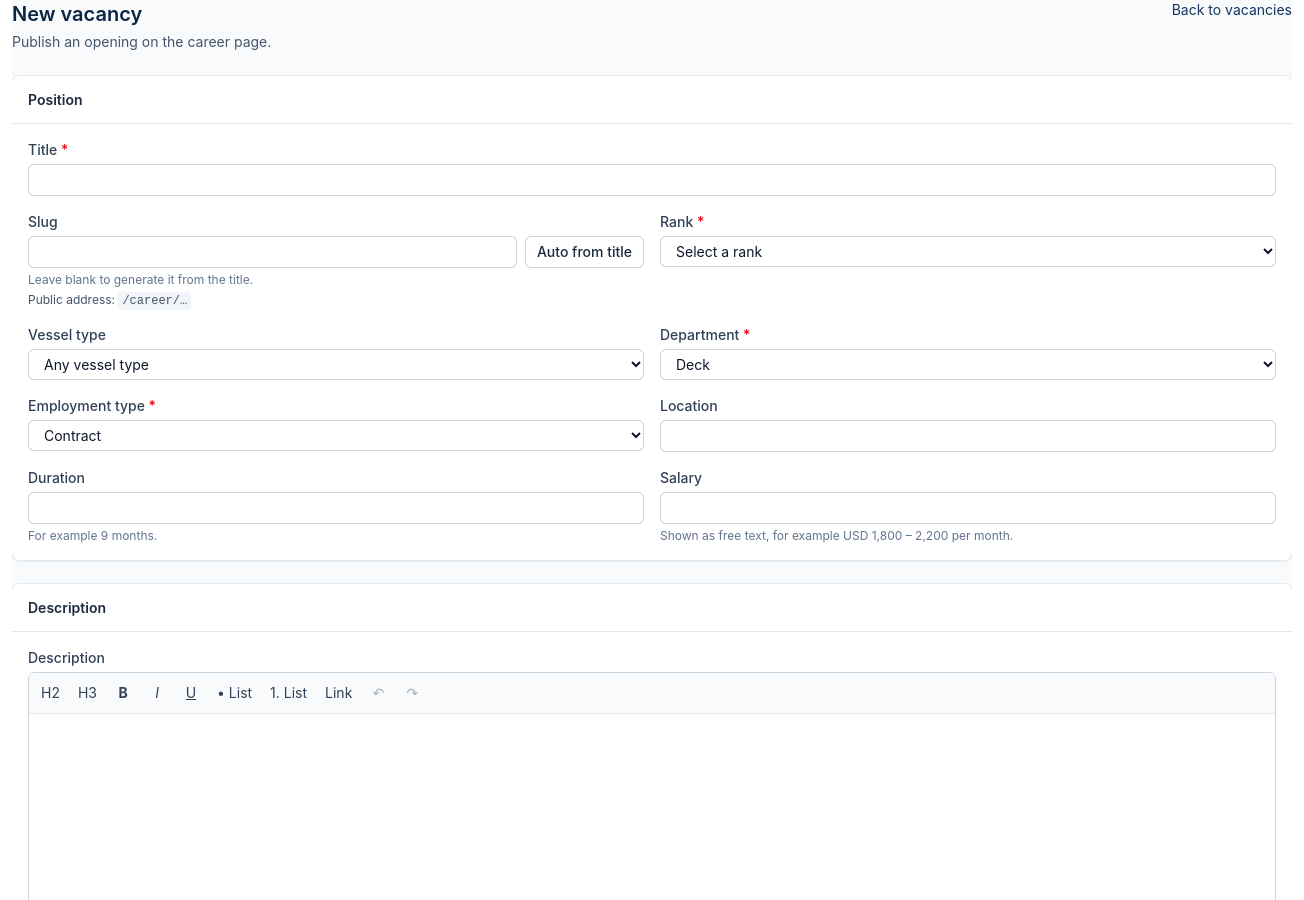
Test: VacancyFormPage › shows a general error when the server rejects a field the form does not know
The width and height of the screenshot is (1304, 900).
Type "Master" into the field labelled "Title *" at (652, 180), box top-left (28, 164), bottom-right (1276, 196)
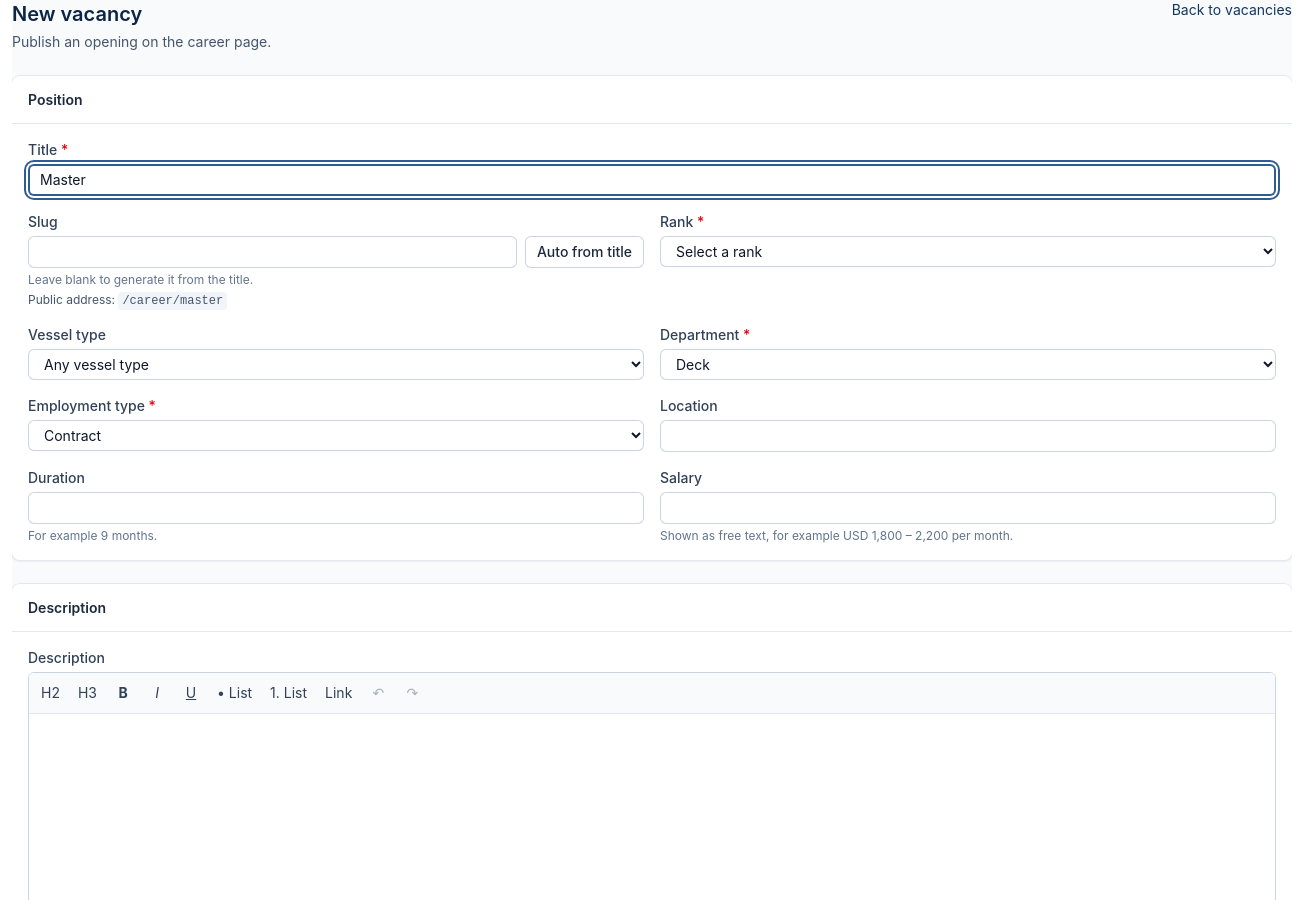
Select "Master" in the dropdown labelled "Rank *" at (968, 252), box top-left (660, 236), bottom-right (1276, 267)
(page scrolled)
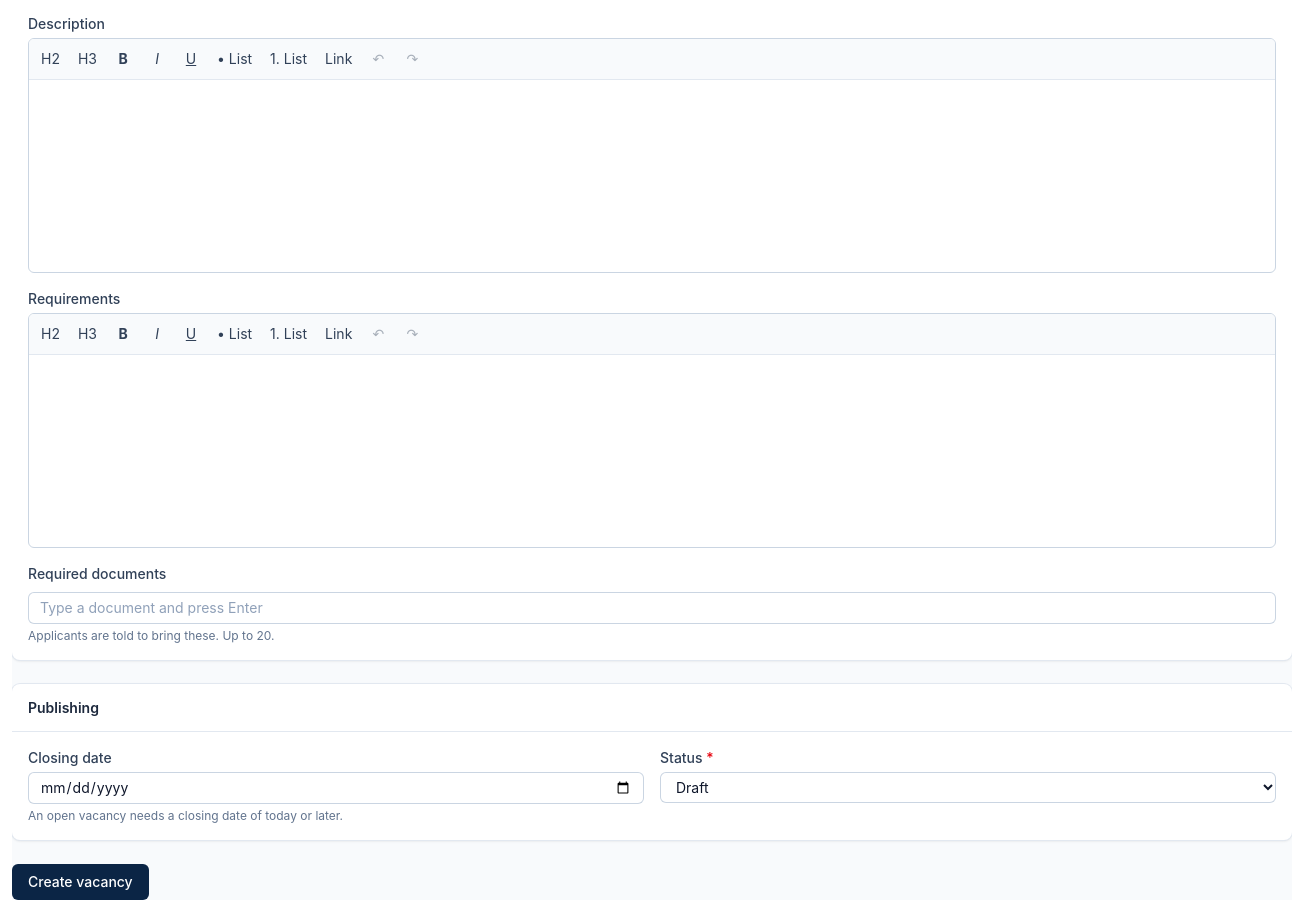
Click the button "Create vacancy" at (80, 882), box top-left (12, 864), bottom-right (149, 899)
(page scrolled)
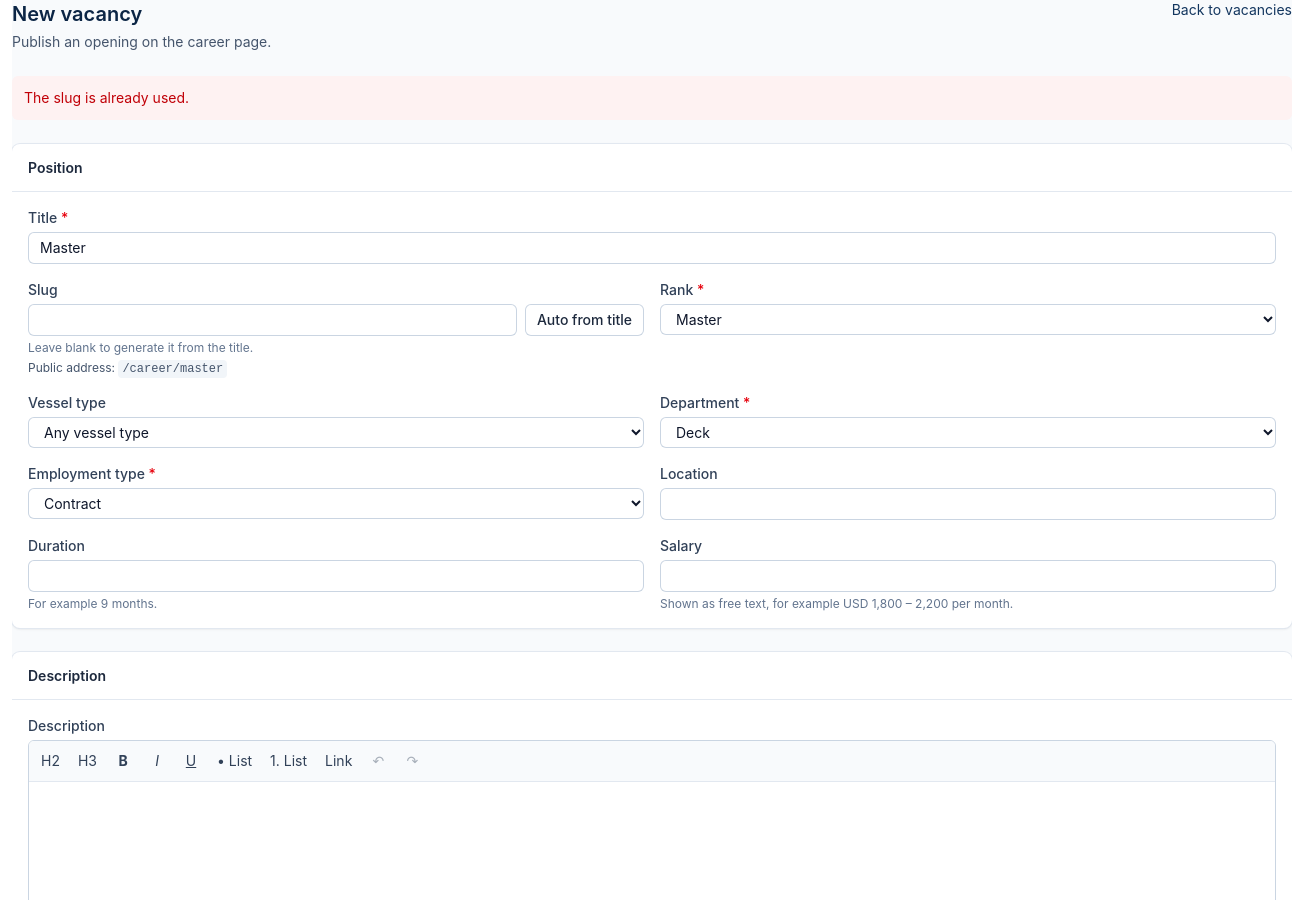
expect the message reads "The slug is already used.": met, box top-left (24, 89), bottom-right (189, 106)
